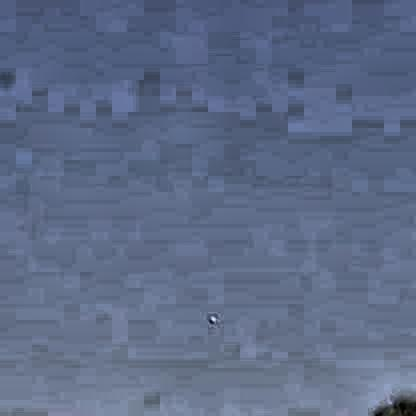golfball: (206, 314, 215, 321)
